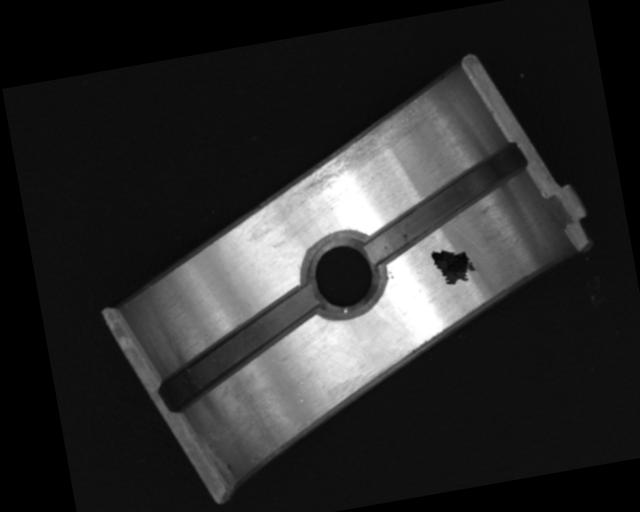blot: (429, 241, 480, 288)
gap: (148, 283, 332, 411), (353, 141, 537, 262)
hole: (295, 225, 389, 324)
scratch: (267, 95, 440, 200)
